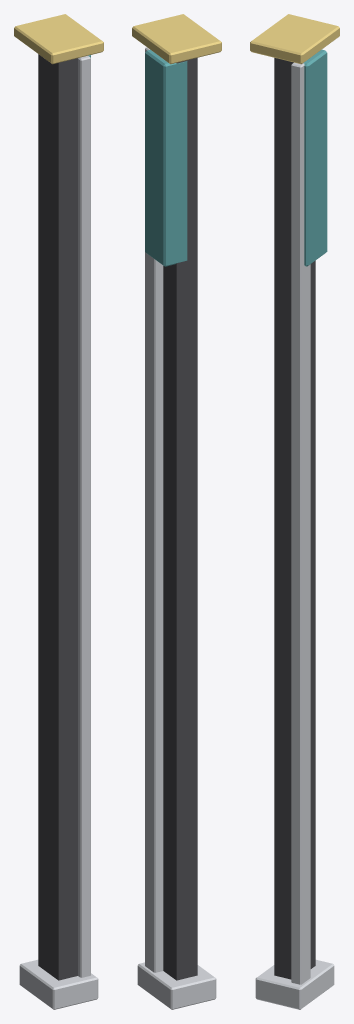
Rendered from theatre-stage-and-backstage-fire-curtain-guide-afd72e04__35922.glb.
The picture shows the model from 3 angles, left to right: view 1: azimuth 30°, elevation 25°; view 2: azimuth 210°, elevation 25°; view 3: azimuth 330°, elevation 25°; orthographic projection.
Visible parts, largest first — view 1: fire-curtain-guide; view 2: fire-curtain-guide; view 3: fire-curtain-guide.
Boxes of the visible parts, bbox=[...] form: fire-curtain-guide: bbox=[14, 14, 103, 1009]; fire-curtain-guide: bbox=[132, 14, 221, 1009]; fire-curtain-guide: bbox=[250, 14, 339, 1009].
Bounding box in the file's own units: 0.3 × 5.2 × 0.38.
